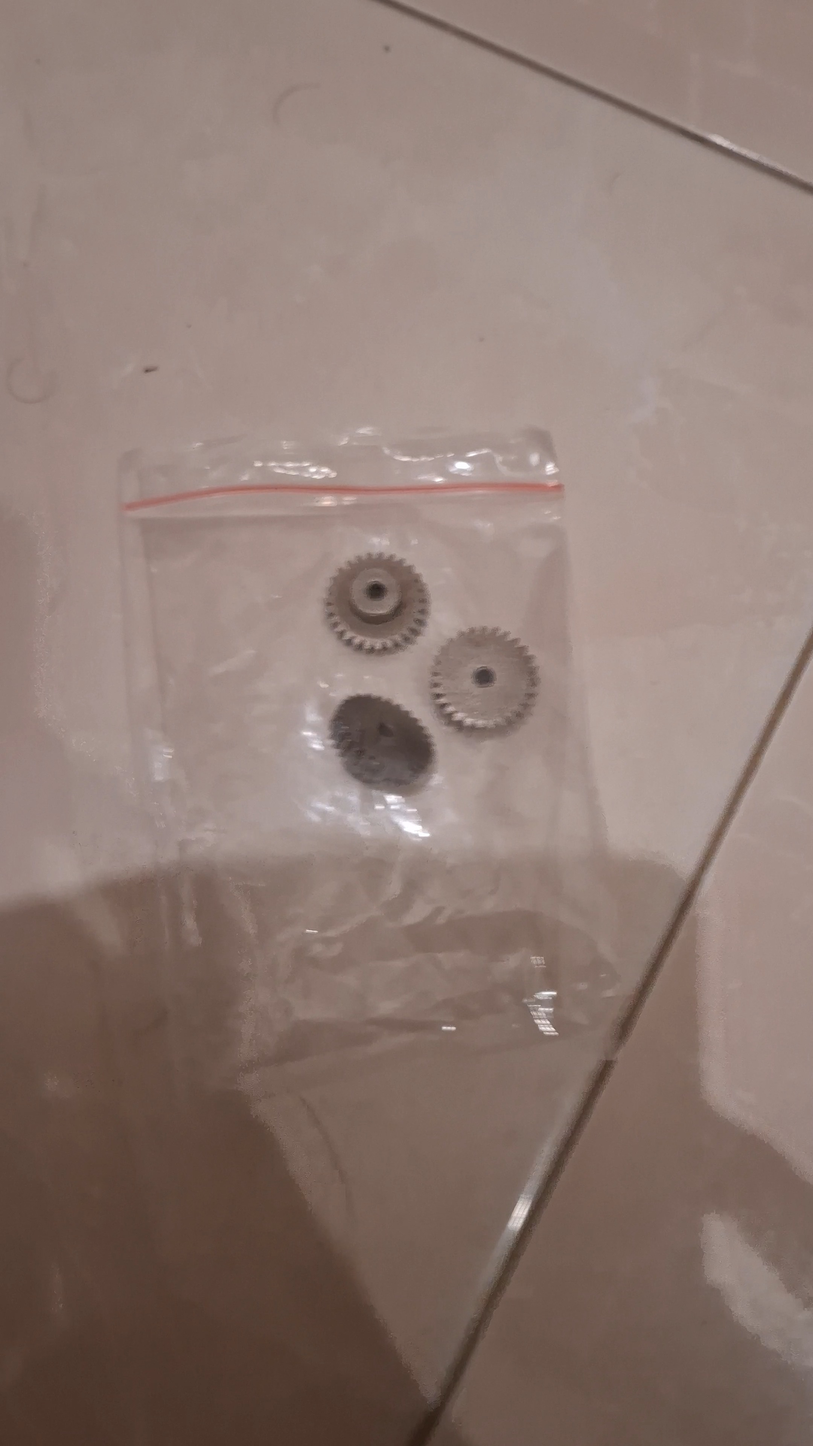spur gear: (425, 627, 540, 732), (321, 553, 431, 654), (327, 692, 435, 791)
